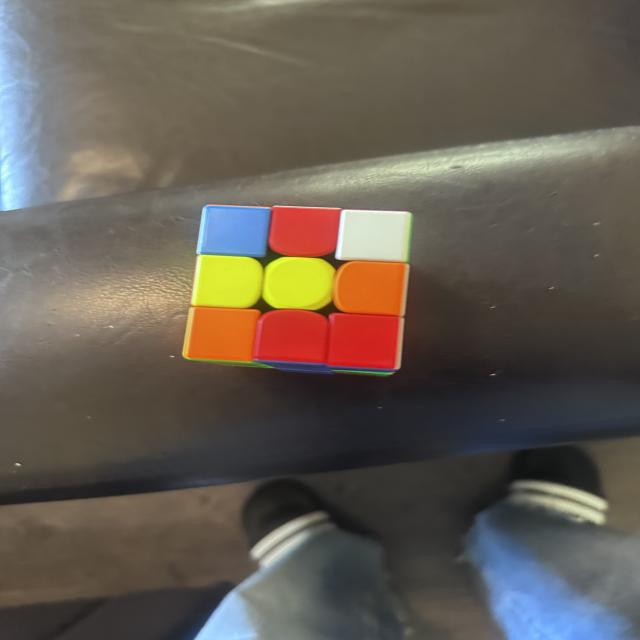sticker: (251, 307, 334, 374), (322, 311, 406, 375), (182, 306, 262, 366), (330, 260, 410, 318), (333, 209, 414, 265), (267, 204, 344, 260), (196, 204, 273, 259), (261, 256, 336, 312), (191, 254, 264, 310)
